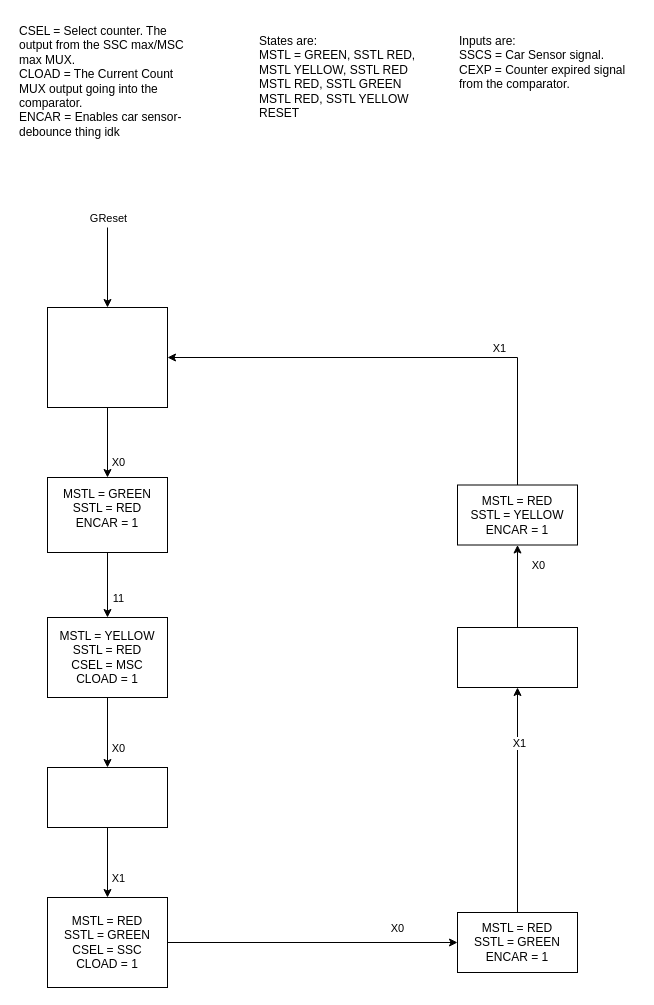
The diagram is 654 pixels wide and 1005 high, and some of its shapes have lost their labels. The box of each missing label's shape, as (x1, y1, x2, y2) in pixels:
MSTL = GREEN SSTL = RED CSEL = MSC CLOAD = 1: (46, 306, 168, 408)
MSTL = RED SSTL = YELLOW CSEL = SST CLOAD = 1: (456, 626, 578, 688)
MSTL = YELLOW SSTL = RED ENCAR = 1: (46, 766, 168, 828)
